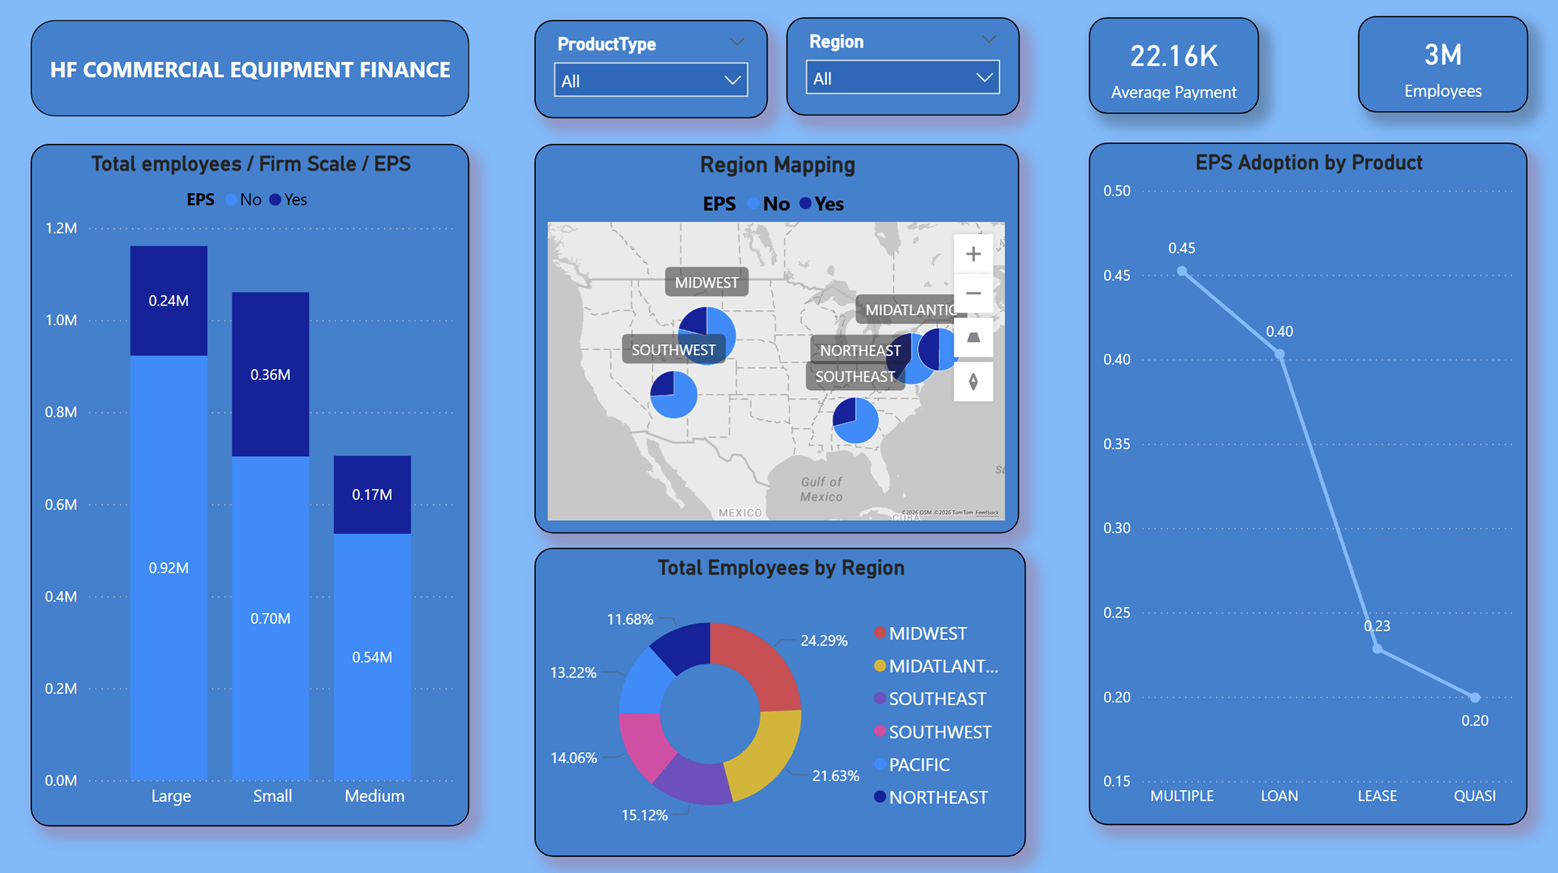

This screenshot's page, from the dashboard's own definition file:
{"tool":"powerbi","page":{"name":"HF Commercial Dashboard","canvas":[1280,720],"ordinal":0},"visuals":[{"type":"columnChart","title":"Total employees / Firm Scale / EPS","fields":{"Category":["Ranking Attributes.Firm Scale"],"Y":["Sum(Ranking Attributes.totempl)"],"Series":["Ranking Attributes.EPS"]},"box":[32.9,122.9,357.1,555.7],"z":0},{"type":"map","title":"Region Mapping","fields":{"Category":["Processed Data and Z Values.Region"],"Series":["Ranking Attributes.EPS"],"Size":["CountNonNull(Ranking Attributes.EPS)"]},"box":[442.9,122.9,394.3,317.1],"z":1000},{"type":"donutChart","title":"Total Employees by Region","fields":{"Category":["Processed Data and Z Values.Region"],"Y":["Sum(Ranking Attributes.totempl)"]},"box":[442.9,451.4,400,251.4],"z":2000},{"type":"lineChart","title":"EPS Adoption by Product","fields":{"Category":["Processed Data and Z Values.ProductType"],"Y":["Avg(Ranking Attributes.EPS Adoption)"]},"box":[894.3,121.4,357.1,555.7],"z":3000},{"type":"card","fields":{"Values":["Sum(Processed Data and Z Values.totempl)"]},"box":[1112.9,18.6,138.6,78.6],"z":4000},{"type":"card","fields":{"Values":["Avg(Processed Data and Z Values.AvgPrevPay)"]},"box":[894.3,20,138.6,78.6],"z":4002},{"type":"shape","box":[32.9,21.4,357.1,78.6],"z":4003},{"type":"slicer","fields":{"Values":["Processed Data and Z Values.Region"]},"box":[647.1,20,190,80],"z":4005},{"type":"slicer","fields":{"Values":["Processed Data and Z Values.ProductType"]},"box":[442.9,21.4,190,80],"z":4006}]}

Visuals, with their boxes in screenshot pixels (x1, y1, x2, y2), scaled from the page's 1280x720 canvas onto the 1558x873 screenshot:
"Total employees / Firm Scale / EPS" columnChart: 40/149/475/823
"Region Mapping" map: 539/149/1019/534
"Total Employees by Region" donutChart: 539/547/1026/852
"EPS Adoption by Product" lineChart: 1089/147/1523/821
card - Sum(Processed Data and Z Values.totempl): 1355/23/1523/118
card - Avg(Processed Data and Z Values.AvgPrevPay): 1089/24/1257/120
shape: 40/26/475/121
slicer - Processed Data and Z Values.Region: 788/24/1019/121
slicer - Processed Data and Z Values.ProductType: 539/26/770/123
